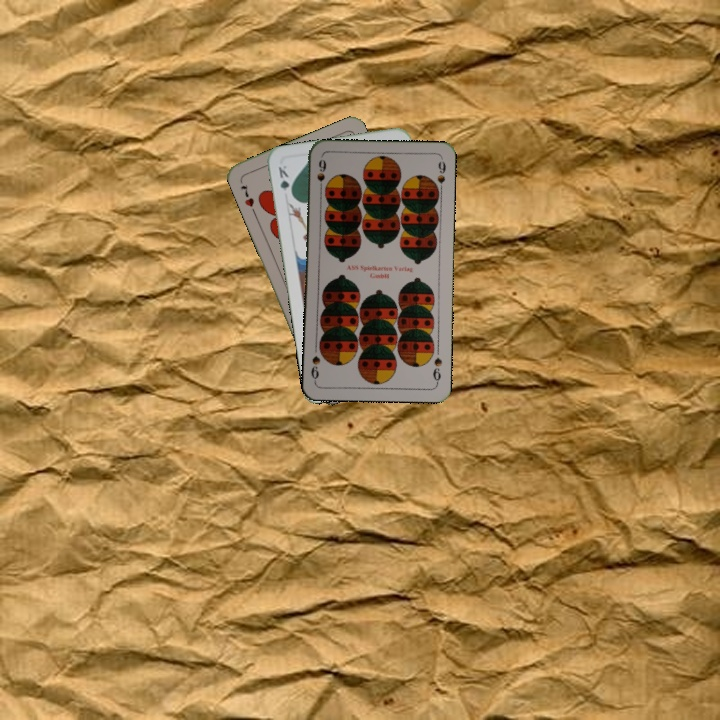GK: (274, 161, 295, 200)
H7: (236, 180, 257, 209)
S9: (313, 155, 329, 195), (429, 353, 445, 386)
